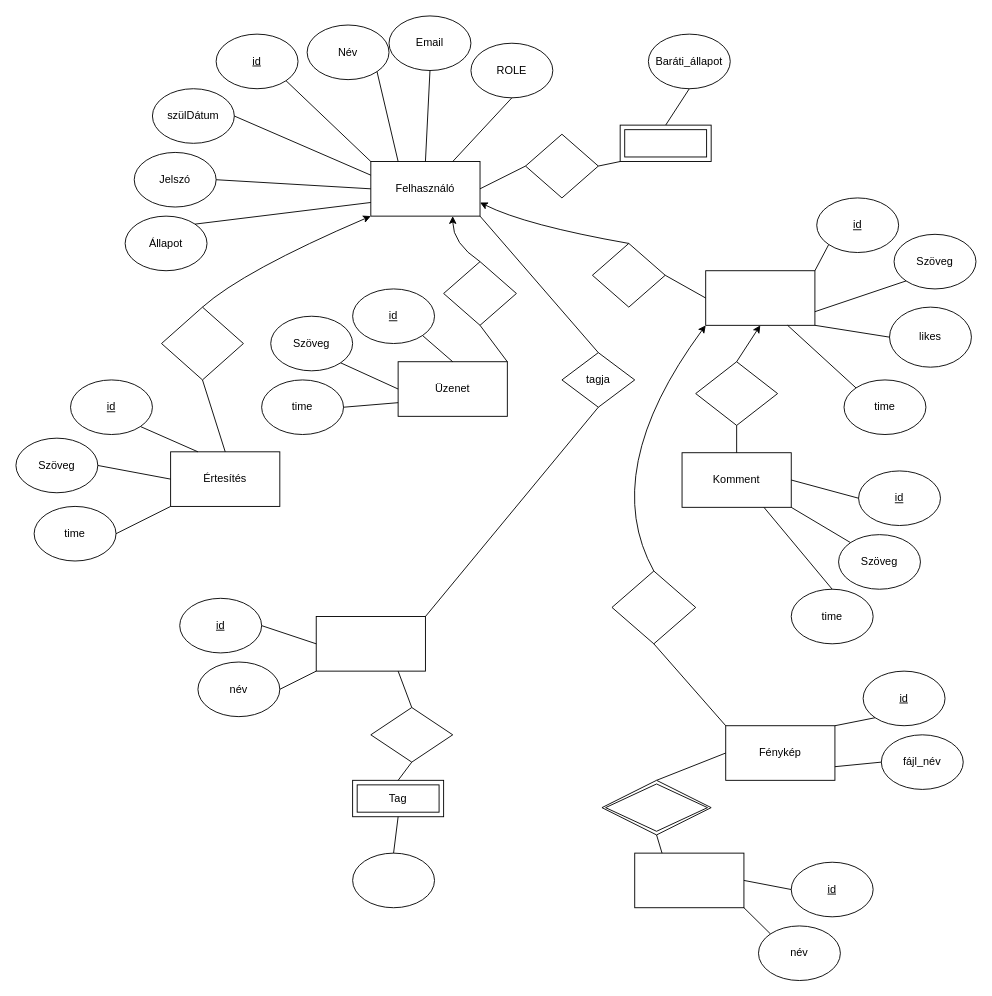
This 992x996 diagram has some shape labels left out. Each missing label, with the centre of its shape:
Album: the point at 689,880
Albumkép: the point at 656,807
Csoport: the point at 370,643
csoport_role: the point at 393,880
hozzácsatol: the point at 653,607
hozzászólnak: the point at 736,393
ismerik egymást: the point at 561,165
Ismerős: the point at 665,143
kapja: the point at 202,343
küldenek: the point at 479,293
létrehoznak: the point at 628,275
Poszt: the point at 760,297
tartalmazzák: the point at 411,734
